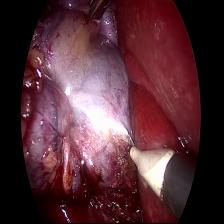Grasper: (86, 1, 119, 28)
Hook: (126, 126, 177, 210)
